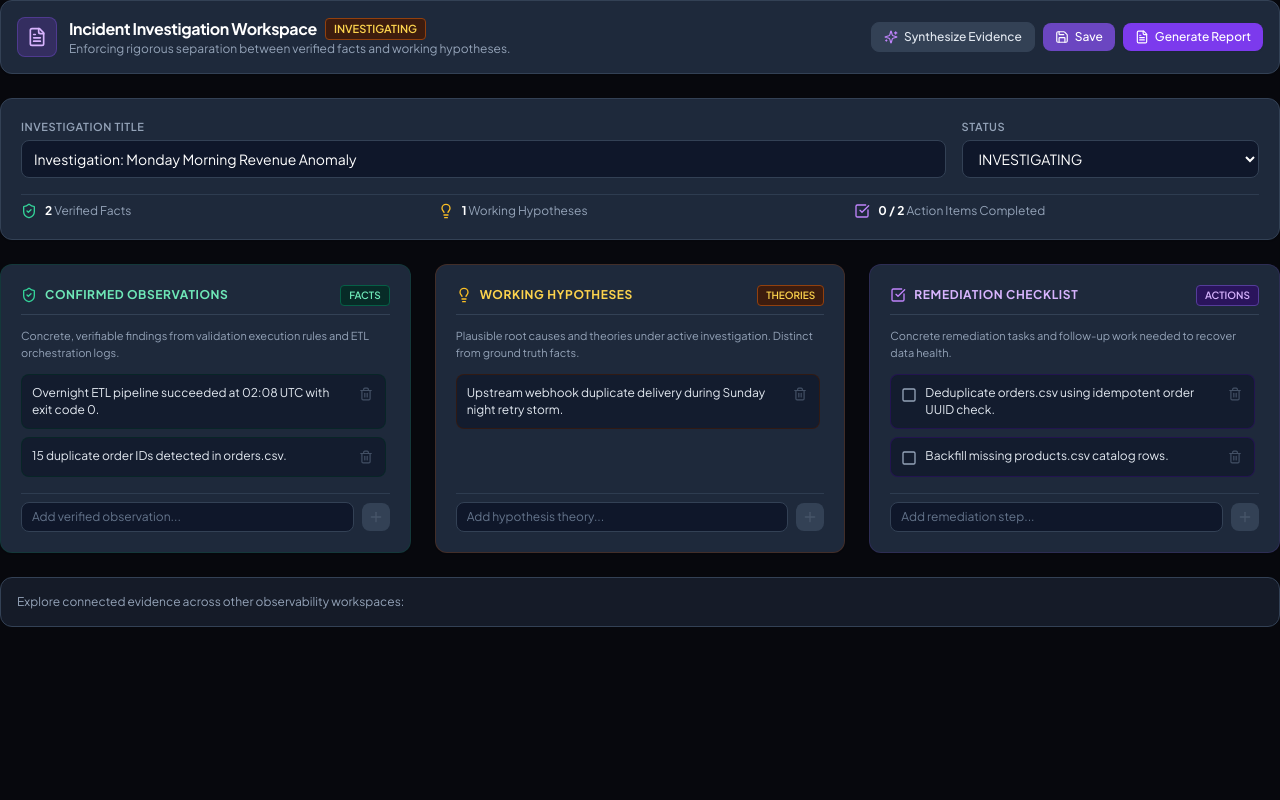
Test: InvestigationWorkspace Component › supports adding and removing facts, hypotheses, and action items
Expected: the field showing "Investigation: Monday Morning Revenue Anomaly" is shown, [21,140,946,178]
# Add hypothesis
Type "Third-party API rate limited orders sync" into the field with placeholder "Add hypothesis theory..." at {"x": 622, "y": 517}, box [456,502,788,532]
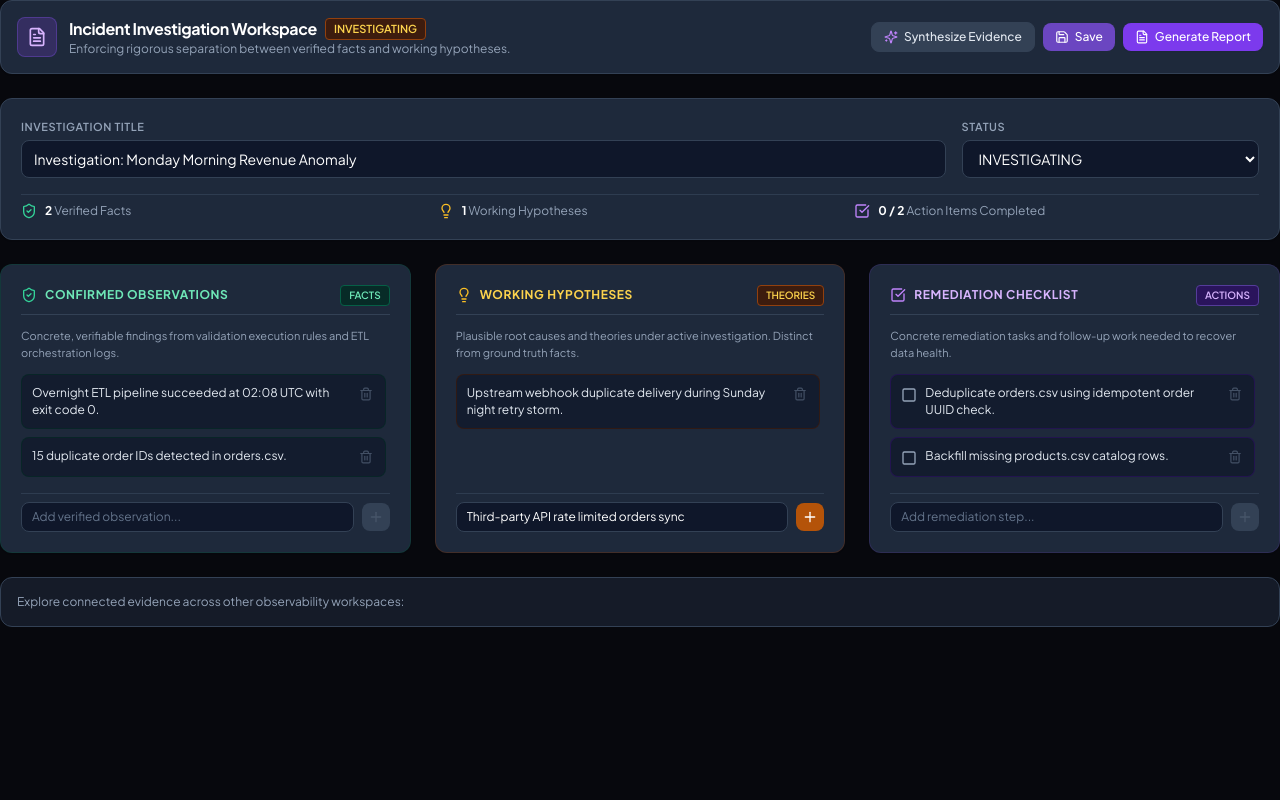
Submit the 2nd form with placeholder "Add hypothesis theory...", box [456,493,824,532]
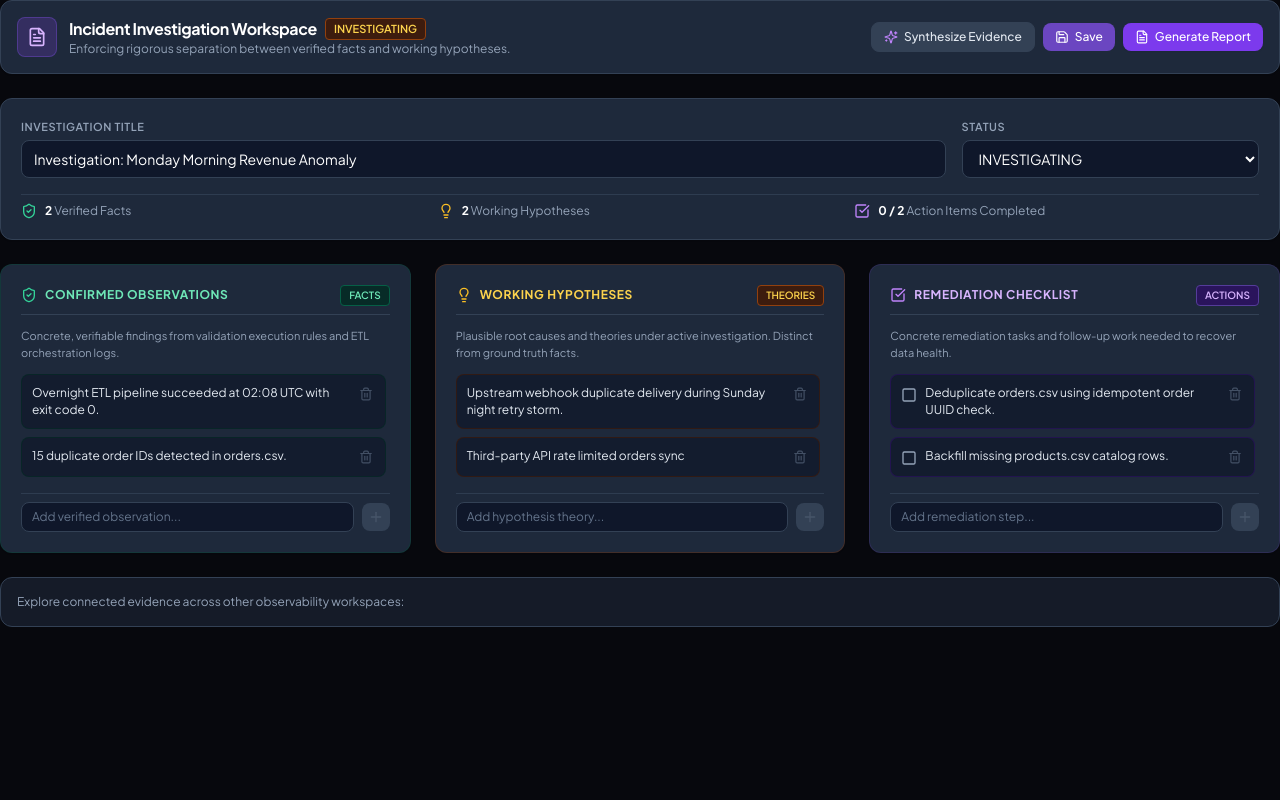
Expected: the text "Third-party API rate limited orders sync" is shown, [467,448,685,463]
# Toggle action item
Click the button named "Toggle action 1" at {"x": 909, "y": 395}, box [901,387,917,403]
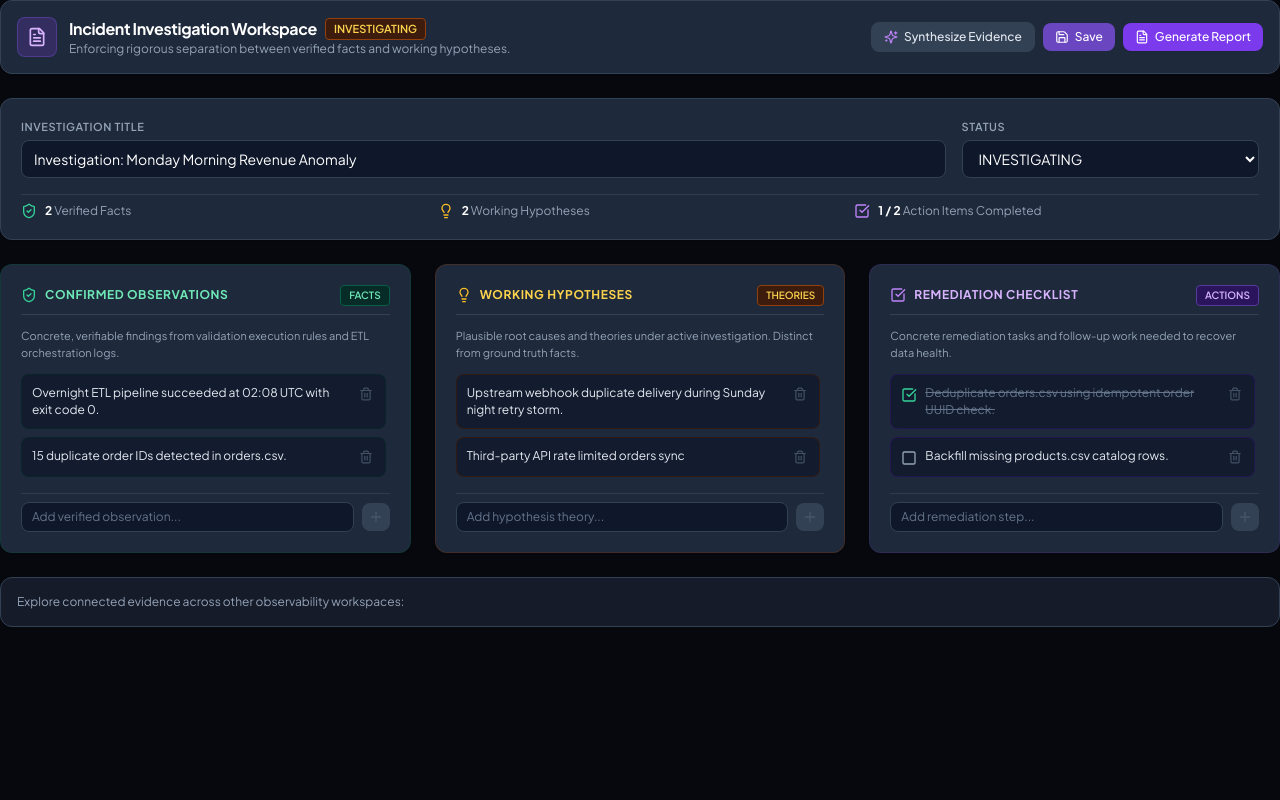
Expected: the text "Deduplicate orders.csv using idempotent order UUID check." has class "line-through", [925,385,1218,418]
# Remove hypothesis
Click the button named "Remove hypothesis 1" at {"x": 800, "y": 394}, box [791,385,809,403]
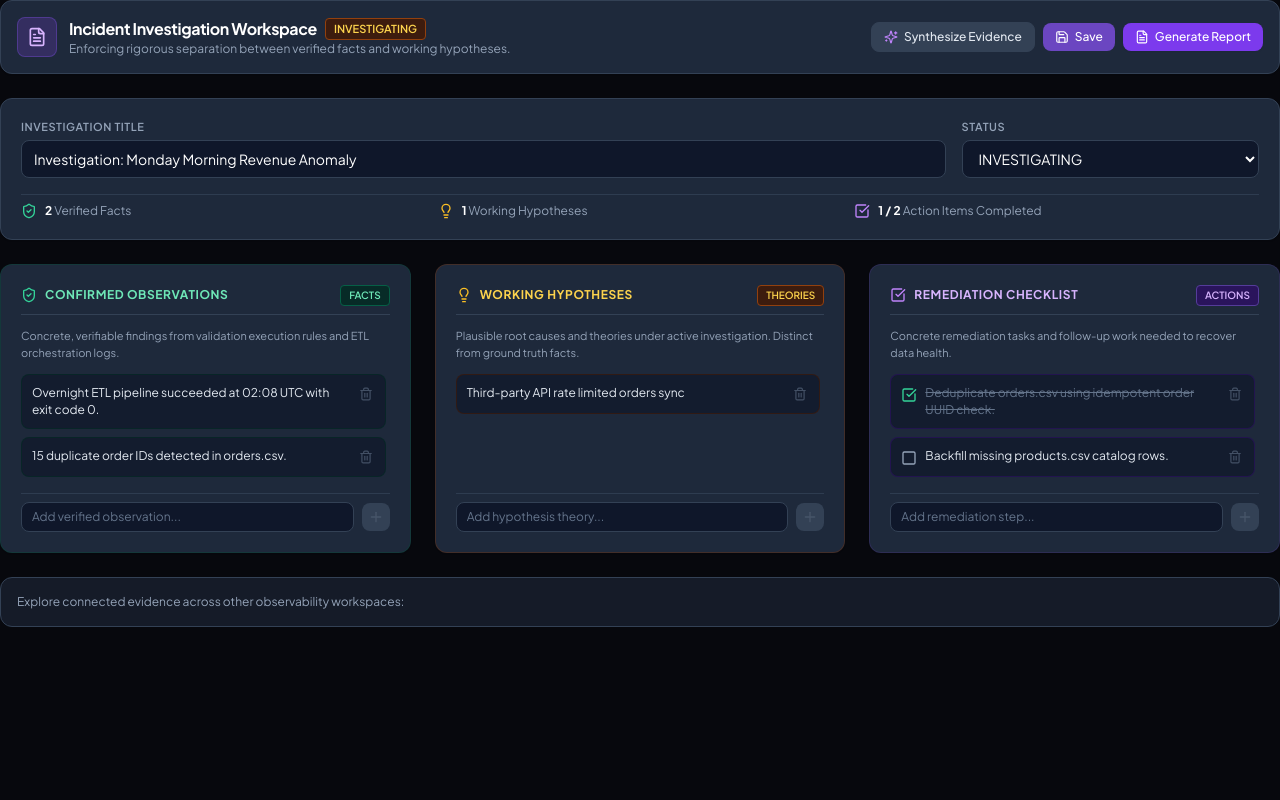
Expected: the text "Upstream webhook duplicate delivery" is gone
